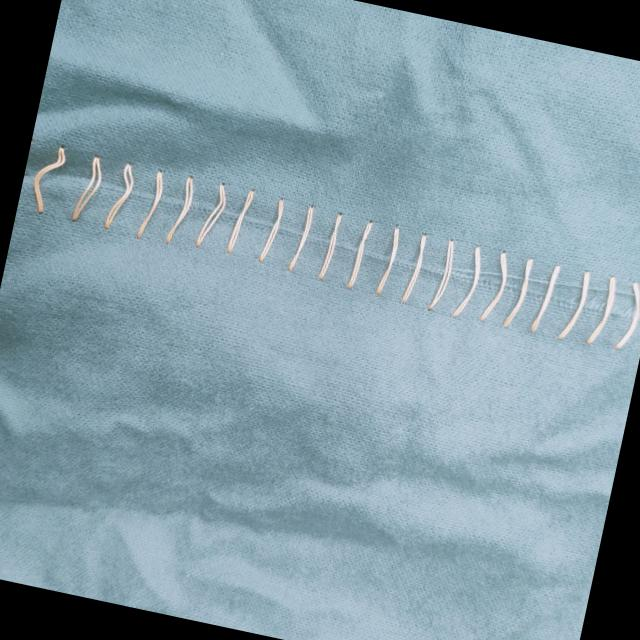gray stitch: (16, 132, 640, 366)
